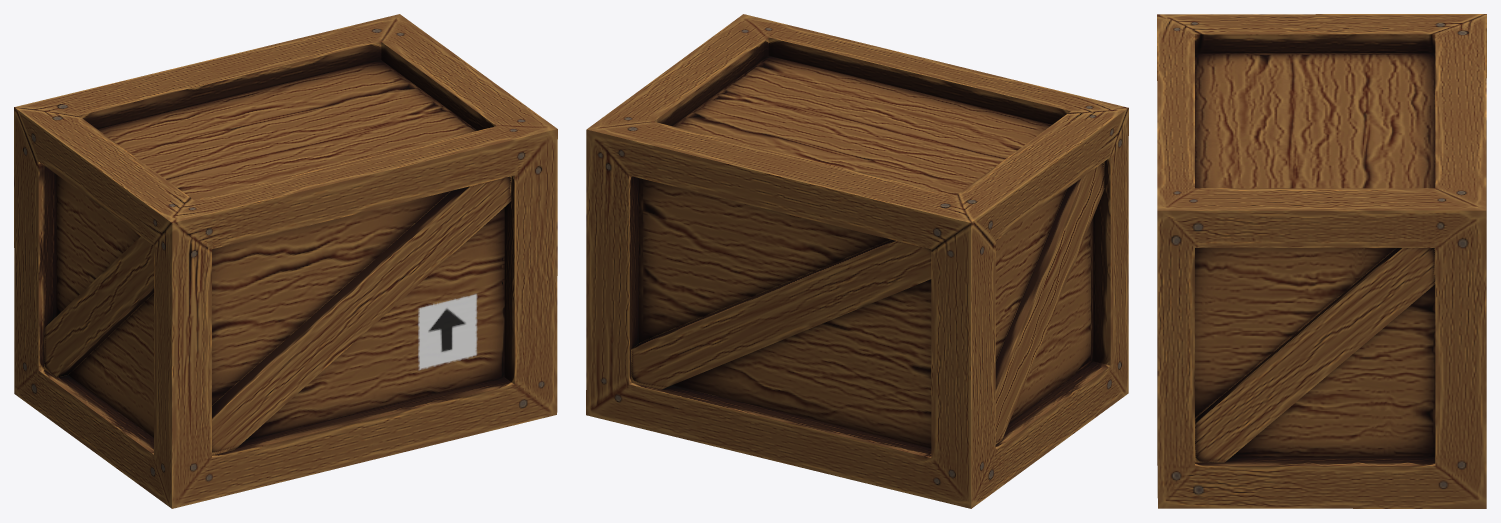
File: ammo_crate.glb
3 views of the same model, side by side, from view 1: azimuth 30°, elevation 25°; view 2: azimuth 150°, elevation 25°; view 3: azimuth 270°, elevation 25° (orthographic). The views are drawn at different scales.
Parts seen in each view (by area): view 1: Crate_LP; view 2: Crate_LP; view 3: Crate_LP.
Part boxes in pixels (bbox=[...]): Crate_LP: bbox=[14, 14, 557, 508]; Crate_LP: bbox=[586, 14, 1128, 508]; Crate_LP: bbox=[1157, 14, 1486, 508].
Size of the model in its own units: 1.41 by 1 by 1.
1 material, 1 textured.
